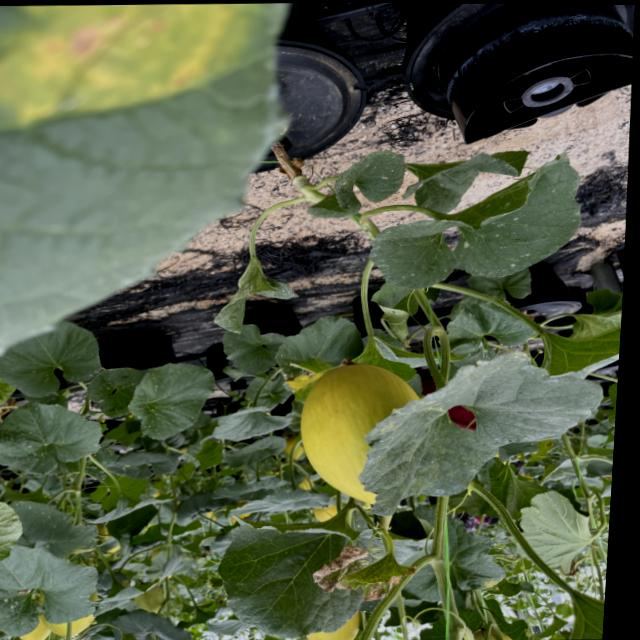alternaria leaf blight: (506, 495, 607, 562), (344, 557, 408, 602), (310, 546, 364, 589)
downy mildew: (350, 346, 614, 499)
healthy: (212, 513, 373, 640), (0, 494, 28, 585)
powdery mildew: (367, 153, 598, 295), (307, 148, 409, 226)
